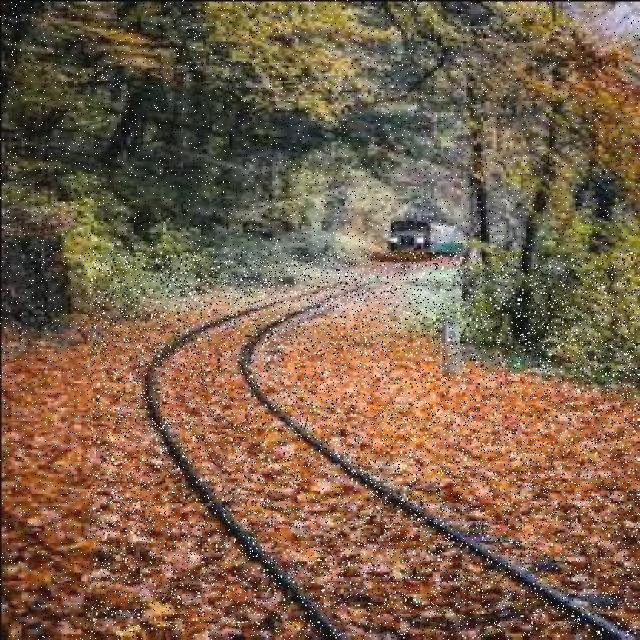danger: (377, 214, 466, 265)
rail: (91, 252, 639, 637)
